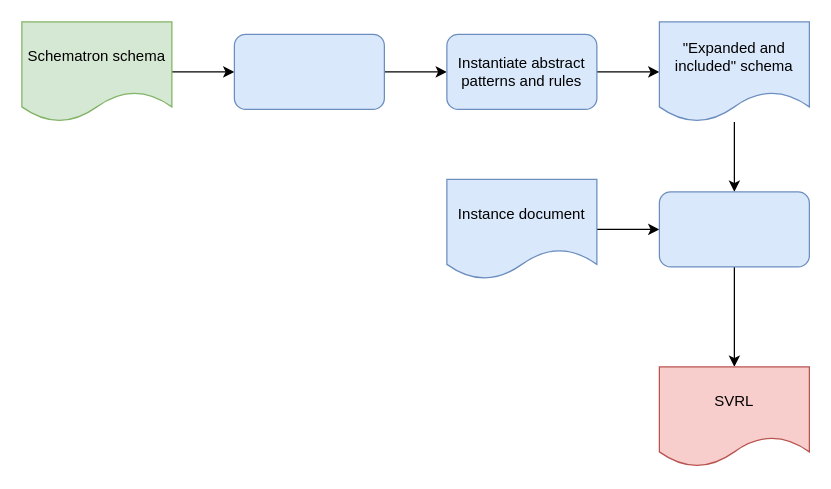
The diagram is 831 pixels wide and 489 high, and some of its shapes have lost their labels. The shapes that lost their labels are listed below. From the top down, each one's centre as x and y in pixels, then its label:
the point at 308,71: Resolve includes
the point at 733,229: Validate
